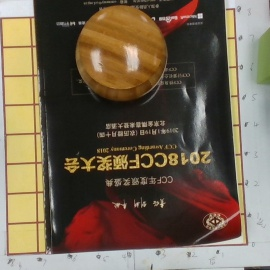chess: (74, 6, 168, 102)
